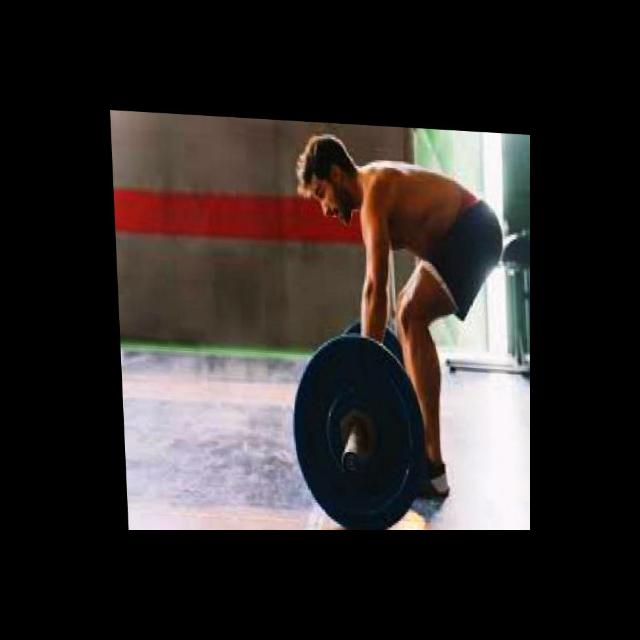barbell: (284, 323, 430, 530)
